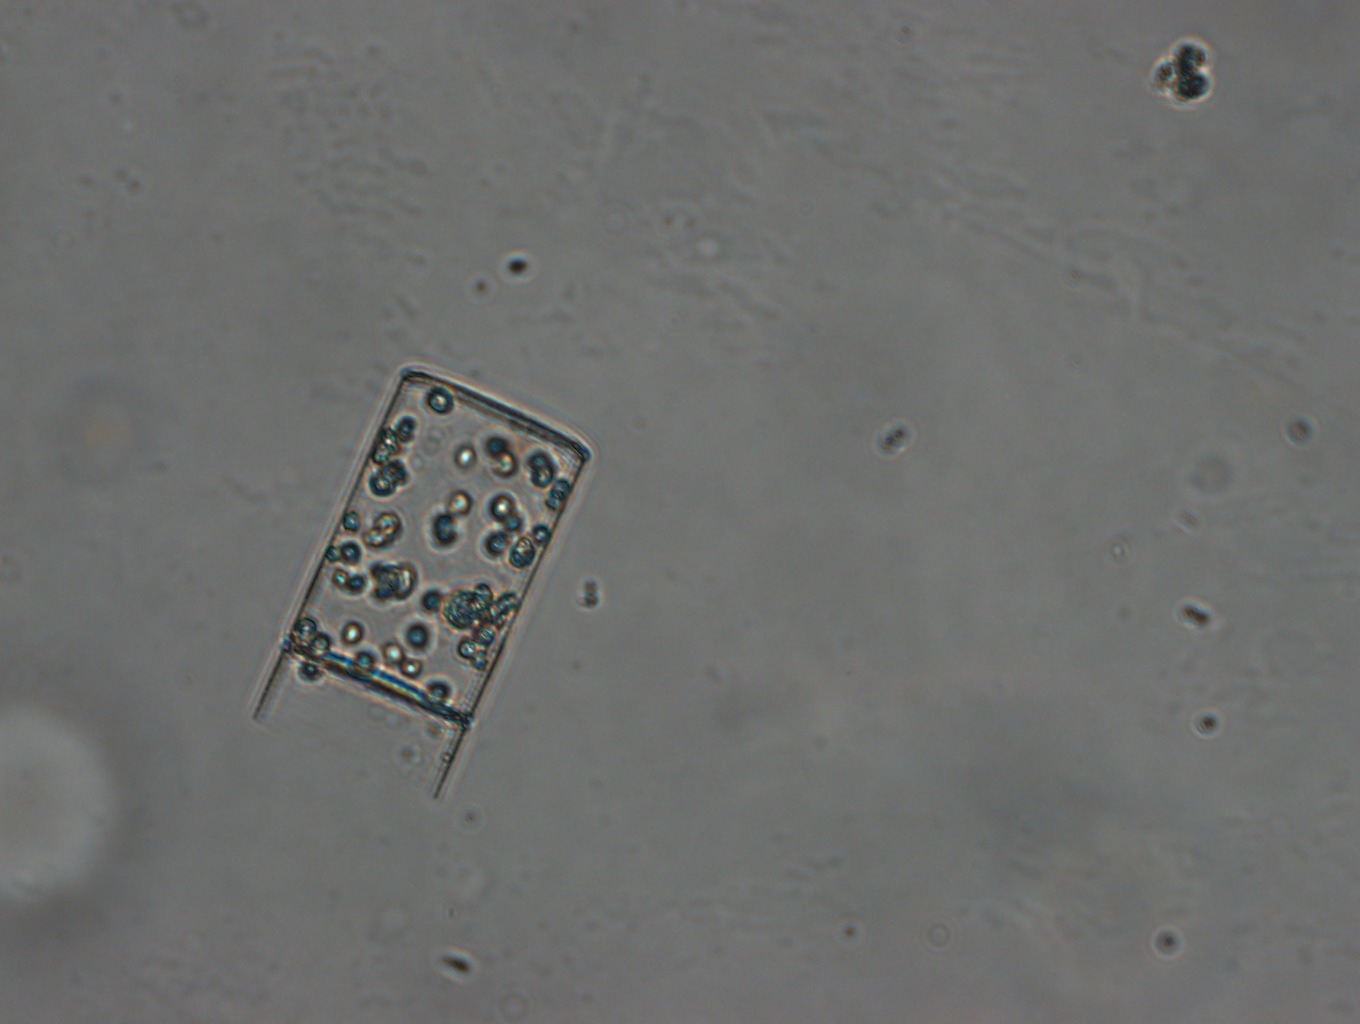guinardia flaccida: (253, 365, 592, 803)
